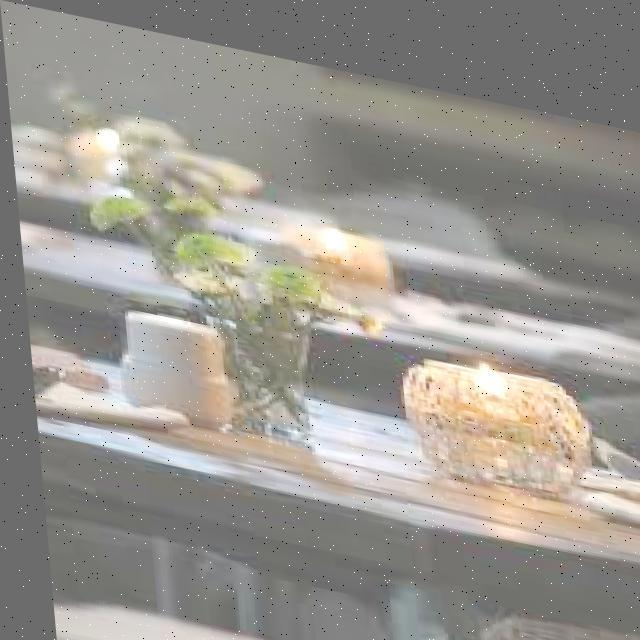Fire: (460, 328, 509, 381)
